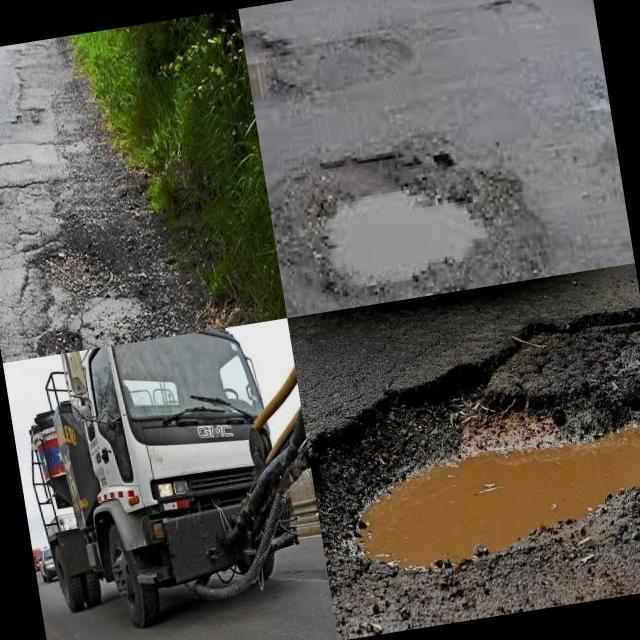Pothole: (308, 310, 640, 571), (279, 165, 550, 297), (29, 223, 150, 330), (243, 38, 267, 101)
